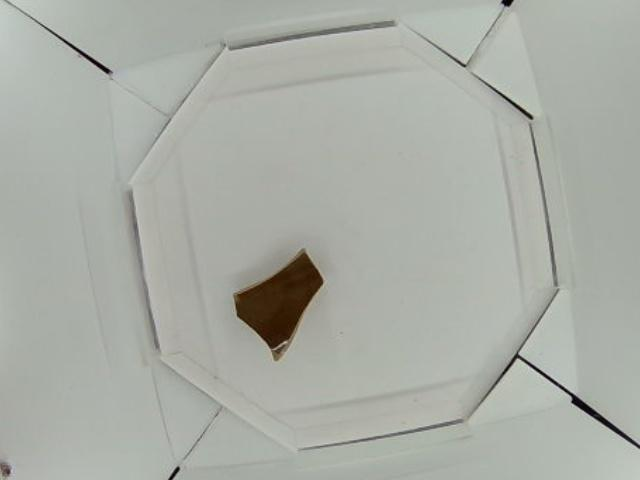China: (232, 243, 326, 361)
